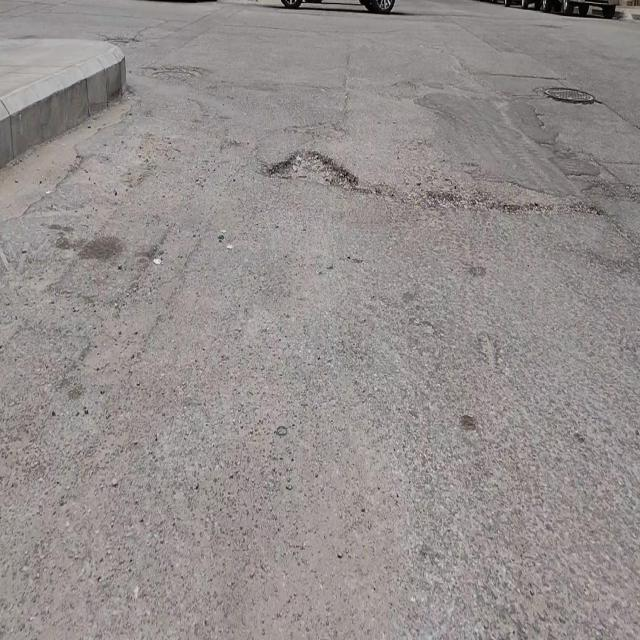Pothole: (265, 146, 360, 191)
